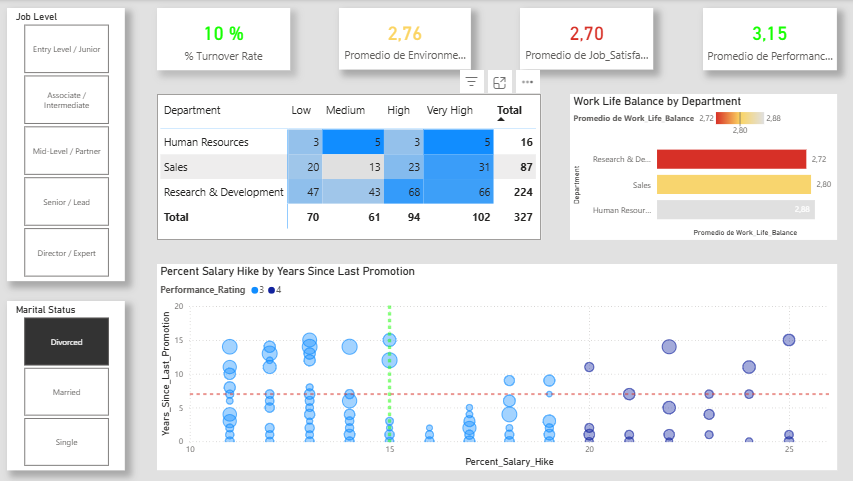

This screenshot's page, from the dashboard's own definition file:
{"tool":"powerbi","page":{"name":"Well-being and performance","canvas":[1280,720],"ordinal":2},"visuals":[{"type":"slicer","fields":{"Values":["Dim_JobDetails.Job_Level_Description"]},"box":[10.9,14,176.2,408.5],"z":0},{"type":"slicer","fields":{"Values":["Dim_Employee.Marital_Status"]},"box":[10.9,450.6,176.2,252.6],"z":1},{"type":"group","id":"g1","title":"Grupo 1","box":[234.5,13.4,1015.8,92.6],"z":6},{"type":"clusteredBarChart","title":"Work Life Balance by Department","fields":{"Category":["Dim_JobDetails.Department"],"Y":["Avg(Dim_Satisfaction.Work_Life_Balance)"]},"box":[851.5,141.9,398.8,218.1],"z":7},{"type":"pivotTable","fields":{"Columns":["Dim_Satisfaction.Job_Satisfaction_Description"],"Rows":["Dim_JobDetails.Department"],"Values":["_Measures.Total Employees"]},"box":[234.5,141.9,573.6,218.1],"z":8},{"type":"scatterChart","title":"Percent Salary Hike by Years Since Last Promotion","fields":{"Series":["Dim_PerformancePay.Performance_Rating"],"Size":["Avg(Dim_PerformancePay.Monthly_Income)"],"X":["Dim_PerformancePay.Percent_Salary_Hike"],"Y":["Dim_Tenure.Years_Since_Last_Promotion"]},"box":[234.5,395.9,1015.8,307.7],"z":9},{"type":"card","fields":{"Values":["Avg(Dim_Satisfaction.Job_Satisfaction)"]},"box":[777.4,13.4,199.3,92.3],"z":2000,"group":"g1"},{"type":"card","fields":{"Values":["Avg(Dim_Satisfaction.Environment_Satisfaction)"]},"box":[506.7,13.4,197.4,92.3],"z":3000,"group":"g1"},{"type":"card","fields":{"Values":["Avg(Dim_PerformancePay.Performance_Rating)"]},"box":[1050,13.4,200.3,92.6],"z":4000,"group":"g1"},{"type":"card","title":"Total Empoyees","fields":{"Values":["_Measures.% Turnover Rate"]},"box":[234.5,13.4,198.8,92.6],"z":5000,"group":"g1"}]}

Visuals, with their boxes in screenshot pixels (x1, y1, x2, y2), scaled from the page's 1280x720 canvas onto the 853x481 screenshot:
slicer - Dim_JobDetails.Job_Level_Description: BBox(7, 9, 125, 282)
slicer - Dim_Employee.Marital_Status: BBox(7, 301, 125, 470)
"Grupo 1" group: BBox(156, 9, 833, 71)
"Work Life Balance by Department" clusteredBarChart: BBox(567, 95, 833, 240)
pivotTable - Dim_Satisfaction.Job_Satisfaction_Description x Dim_JobDetails.Department: BBox(156, 95, 539, 240)
"Percent Salary Hike by Years Since Last Promotion" scatterChart: BBox(156, 264, 833, 470)
card - Avg(Dim_Satisfaction.Job_Satisfaction): BBox(518, 9, 651, 71)
card - Avg(Dim_Satisfaction.Environment_Satisfaction): BBox(338, 9, 469, 71)
card - Avg(Dim_PerformancePay.Performance_Rating): BBox(700, 9, 833, 71)
"Total Empoyees" card: BBox(156, 9, 289, 71)
